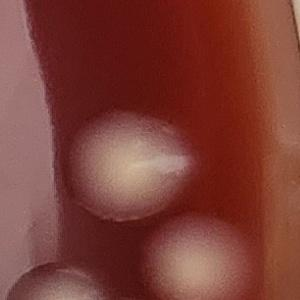colony: (61, 101, 200, 224), (138, 210, 264, 300), (0, 259, 120, 300)
